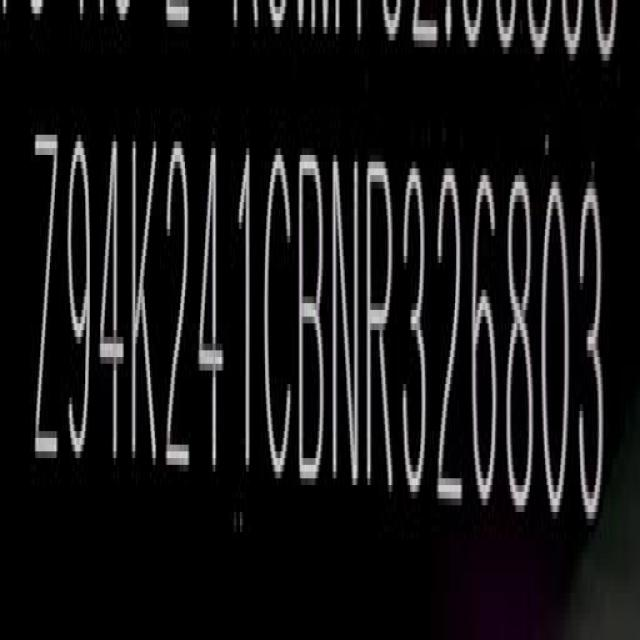0: (537, 177, 571, 522)
1: (232, 112, 258, 497)
2: (430, 157, 465, 522), (163, 137, 193, 477)
3: (576, 175, 604, 529), (403, 145, 426, 529)
4: (195, 140, 225, 474), (98, 130, 126, 474)
6: (466, 167, 502, 514)
8: (505, 170, 534, 529)
9: (62, 124, 95, 472)
B: (292, 132, 327, 494)
C: (262, 132, 297, 492)
K: (128, 122, 160, 472)
N: (328, 150, 360, 482)
R: (362, 154, 398, 496)
Z: (32, 125, 62, 474)
